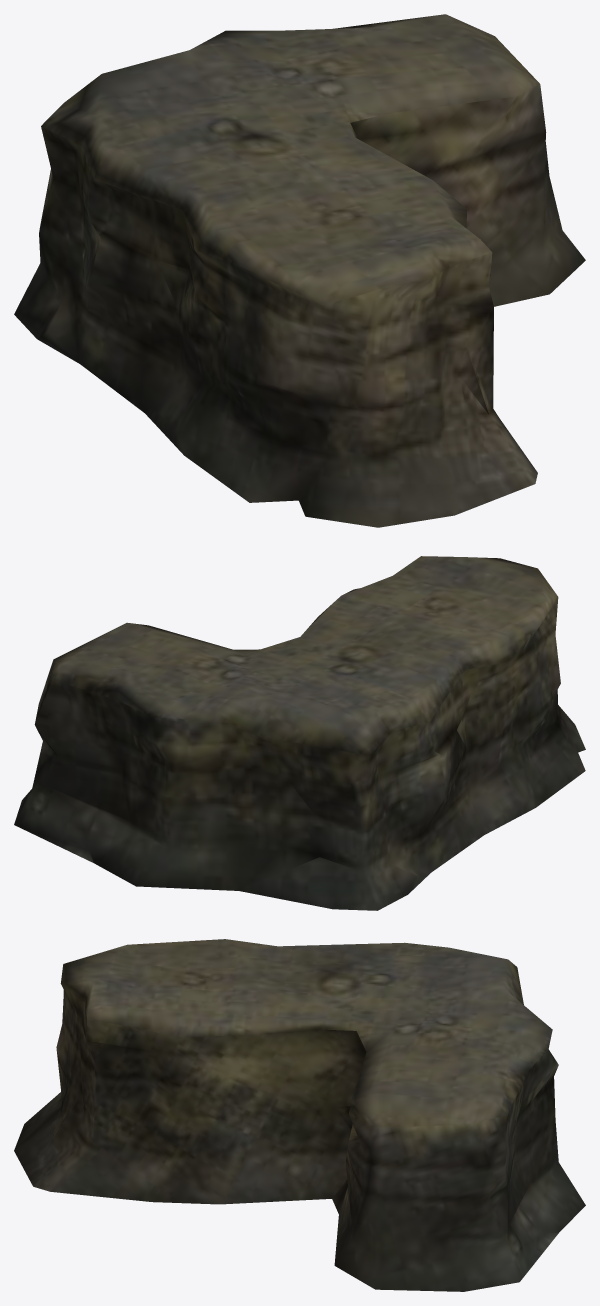
The picture shows the model from 3 angles, top to bottom: view 1: azimuth 30°, elevation 25°; view 2: azimuth 150°, elevation 25°; view 3: azimuth 270°, elevation 25°; orthographic projection. The views are drawn at different scales.
Parts seen in each view (by area): view 1: cliff3; view 2: cliff3; view 3: cliff3.
Boxes of the visible parts, x1,y1,x2,y2 form: cliff3: (14,14,585,527); cliff3: (14,556,585,910); cliff3: (14,939,585,1291).
Bounding box in the file's own units: 17.75 × 7.61 × 21.93.
1 material, 1 textured.
